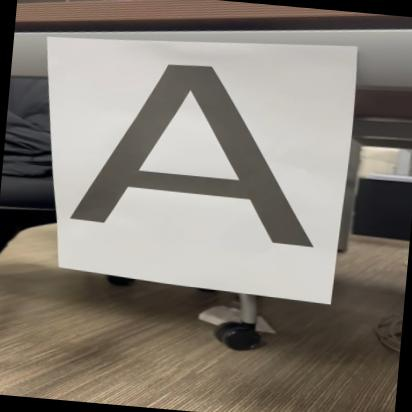seat: (69, 48, 331, 252)
